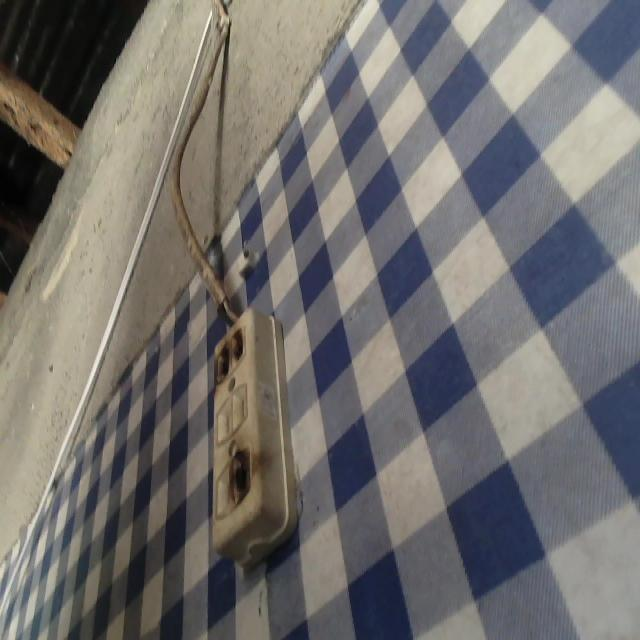-: (226, 441, 268, 515), (209, 321, 249, 384)
